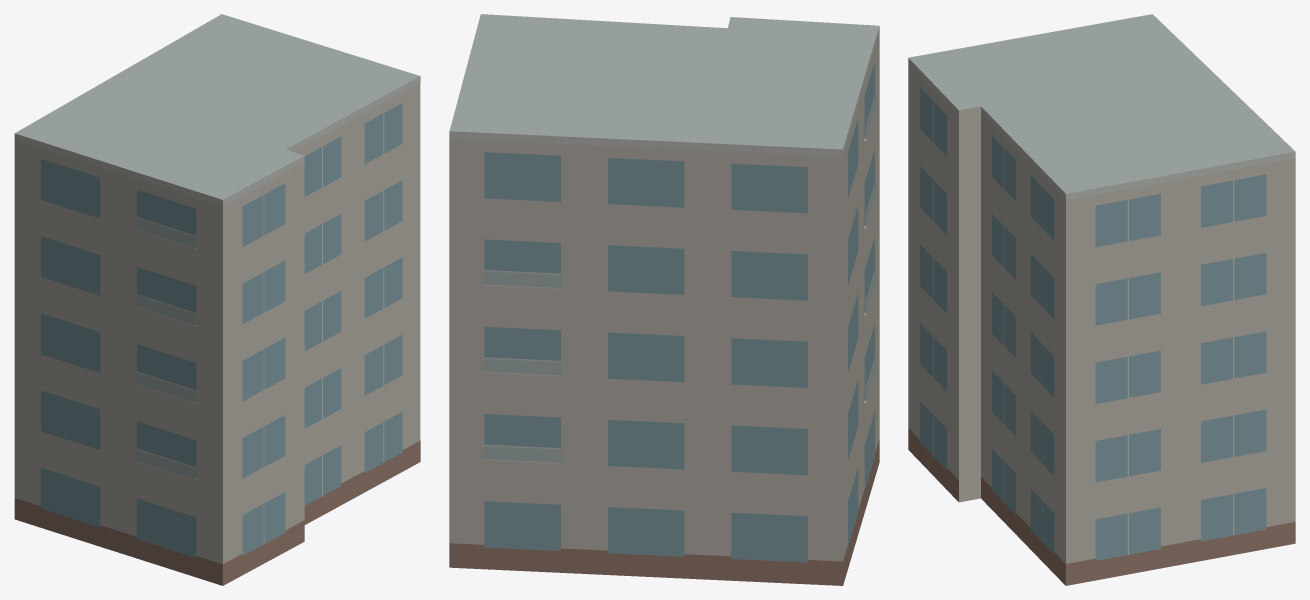
The model's file is survey-upis-32846397.glb.
3 views of the same model, side by side, from view 1: azimuth 30°, elevation 25°; view 2: azimuth 150°, elevation 25°; view 3: azimuth 270°, elevation 25° (orthographic). The views are drawn at different scales.
Visible parts, largest first — view 1: survey-upis-32846397.tmp; view 2: survey-upis-32846397.tmp; view 3: survey-upis-32846397.tmp.
Part boxes in pixels (bbox=[...]): survey-upis-32846397.tmp: bbox=[14, 14, 420, 585]; survey-upis-32846397.tmp: bbox=[449, 14, 879, 585]; survey-upis-32846397.tmp: bbox=[908, 14, 1295, 585].
Bounding box in the file's own units: 14.38 × 14.6 × 13.09.
